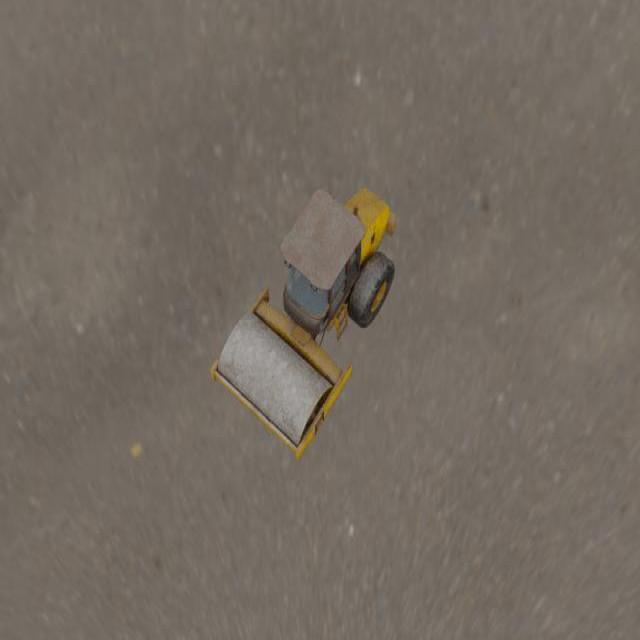Roller: (210, 187, 396, 460)
